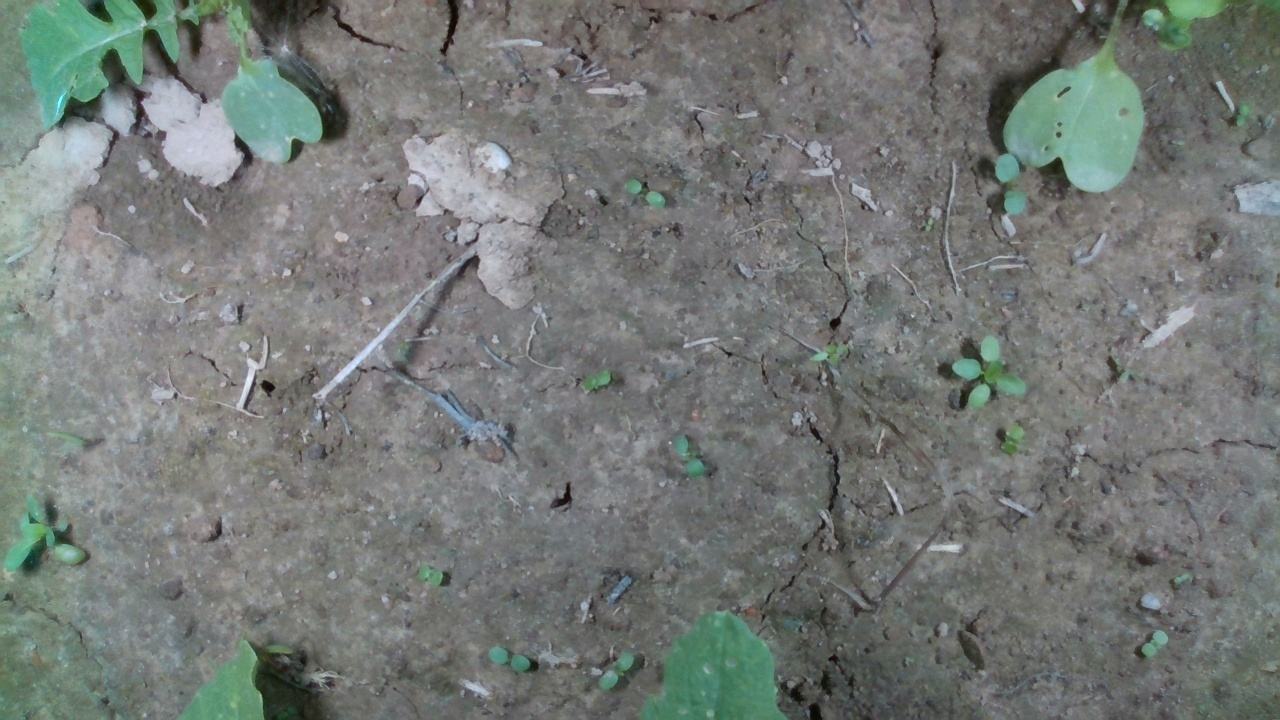weed: (619, 177, 669, 208), (412, 565, 446, 587)
